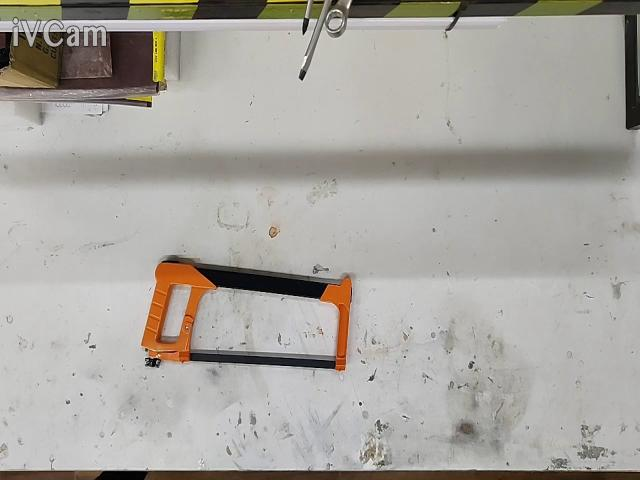Backsaw: (142, 260, 352, 368)
Wrench: (325, 0, 351, 38)
